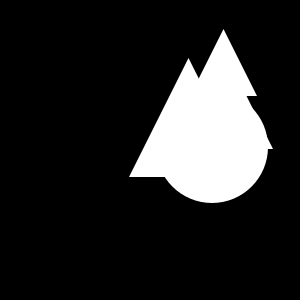rectangle: (156, 91, 268, 203)
triangle: (129, 58, 248, 177), (174, 50, 273, 149), (190, 29, 257, 96)
